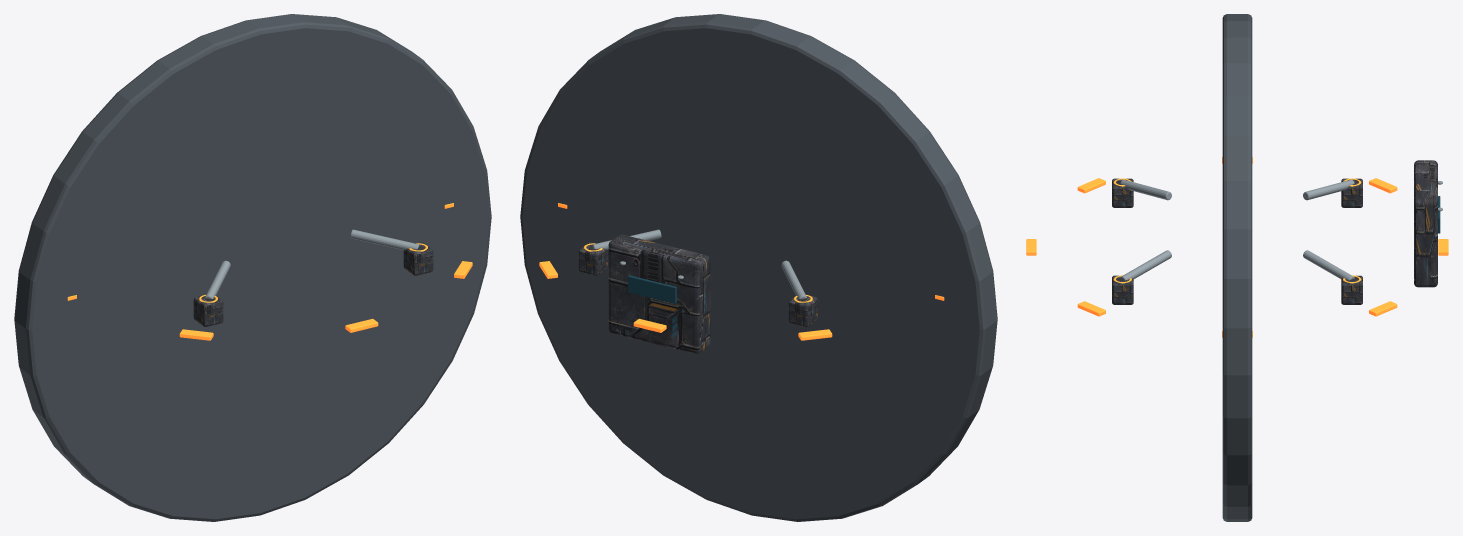
Rendered from resonance_drone_dock.glb.
The picture shows the model from 3 angles, left to right: view 1: azimuth 30°, elevation 25°; view 2: azimuth 150°, elevation 25°; view 3: azimuth 270°, elevation 25°; orthographic projection. The views are drawn at different scales.
Visible parts, largest first — view 1: Pad/base, Arm/135/base, Arm/45/base, Arm/45/folded; view 2: Pad/base, Terminal/housing, Terminal/screen, Arm/225/base, Arm/315/base; view 3: Pad/base, Terminal/housing, Arm/315/base, Arm/45/base, Arm/135/base, Arm/225/base, Arm/315/folded, Arm/45/folded.
Boxes of the visible parts, box(x1,y1,x2,y2) form: Pad/base: box(14, 14, 491, 521); Arm/135/base: box(193, 295, 223, 326); Arm/45/base: box(403, 242, 433, 275); Arm/45/folded: box(350, 229, 419, 250); Pad/base: box(520, 14, 997, 521); Terminal/housing: box(608, 234, 710, 353); Terminal/screen: box(628, 275, 676, 303); Arm/225/base: box(788, 295, 818, 326); Arm/315/base: box(578, 242, 608, 275); Pad/base: box(1222, 14, 1252, 521); Terminal/housing: box(1414, 160, 1437, 287); Arm/315/base: box(1341, 275, 1362, 304); Arm/45/base: box(1112, 275, 1133, 304); Arm/135/base: box(1112, 178, 1133, 207); Arm/225/base: box(1341, 178, 1362, 207); Arm/315/folded: box(1303, 250, 1354, 280); Arm/45/folded: box(1120, 250, 1171, 280).
Bounding box in the file's own units: 11.6 × 11.6 × 9.64.
Materials: 7 (1 with a texture image).
